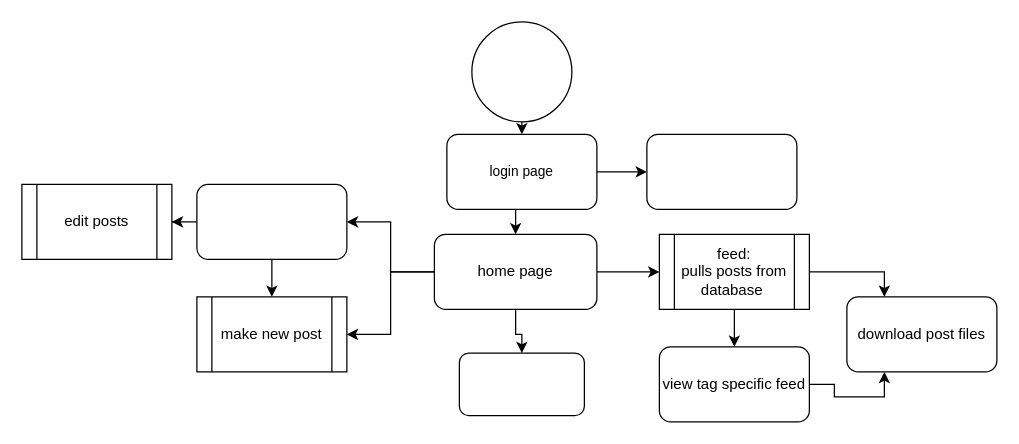
Some shapes in this 1019 by 444 pixel diagram are drawn without their labels. Each missing label, with the centre of its shape:
"account creation page" goes at (x=721, y=171).
"add friend" goes at (x=521, y=384).
"User opens app" goes at (x=521, y=71).
"view user posts" goes at (x=271, y=221).
